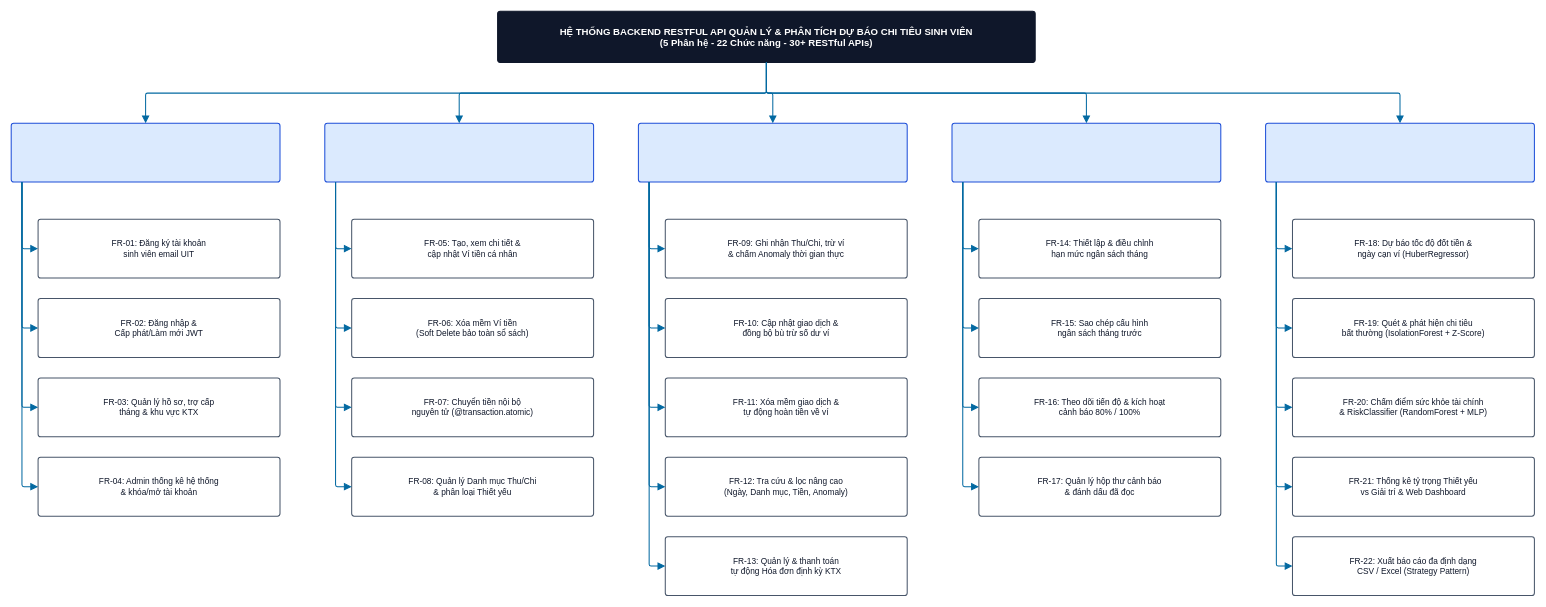
Image size: 1546x607. Some labels were removed from this diagram. Here are the shapes that lost their labels. From the top down, the box of each, then its label:
(10, 122, 280, 182): 1. Phân hệ Xác thực & Quản trị Người dùng (4 Chức năng - 6 APIs)
(324, 122, 594, 182): 2. Phân hệ Quản lý Ví & Danh mục Thu Chi (4 Chức năng - 6 APIs)
(638, 122, 907, 182): 3. Phân hệ Giao dịch & Hóa đơn Định kỳ KTX (5 Chức năng - 9 APIs)
(951, 122, 1221, 182): 4. Phân hệ Ngân sách & Cảnh báo Tự động (4 Chức năng - 5 APIs)
(1265, 122, 1535, 182): 5. Phân hệ Dự báo Học máy & Xuất Báo cáo (5 Chức năng - 5 APIs)
